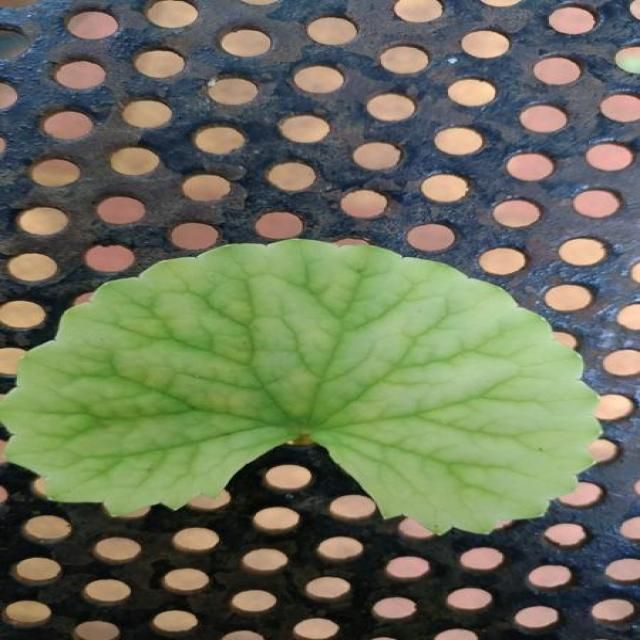bhrami: (2, 240, 598, 532)
